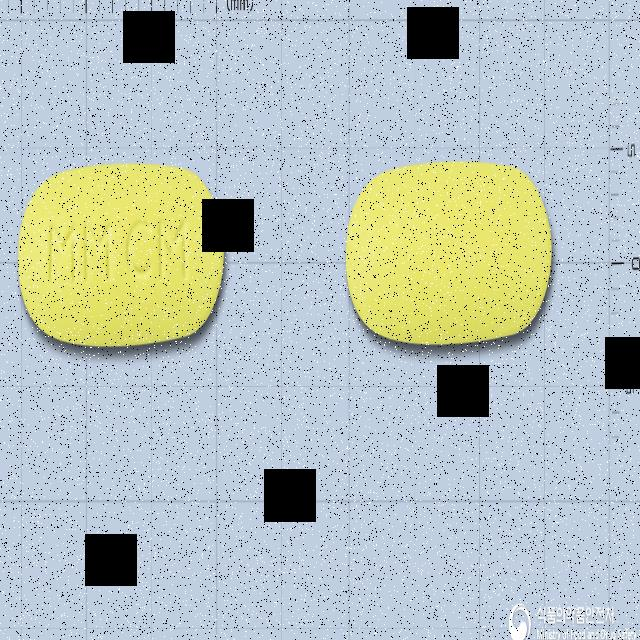Claricin - 500mg: (15, 156, 231, 352)
